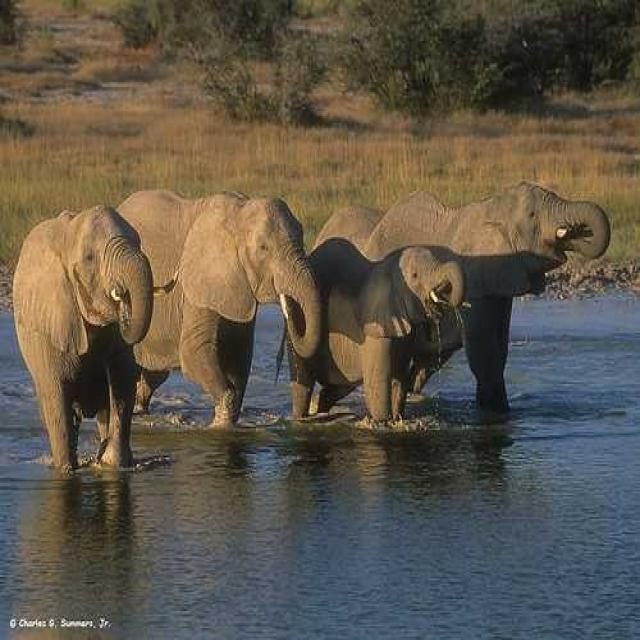Elephant: (354, 185, 609, 393), (111, 186, 322, 428), (11, 201, 155, 473), (282, 236, 466, 423)
